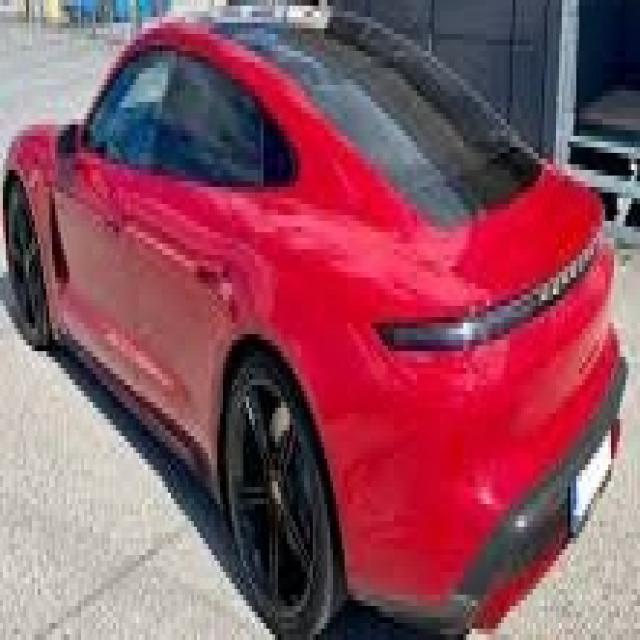red: (6, 23, 630, 573)
